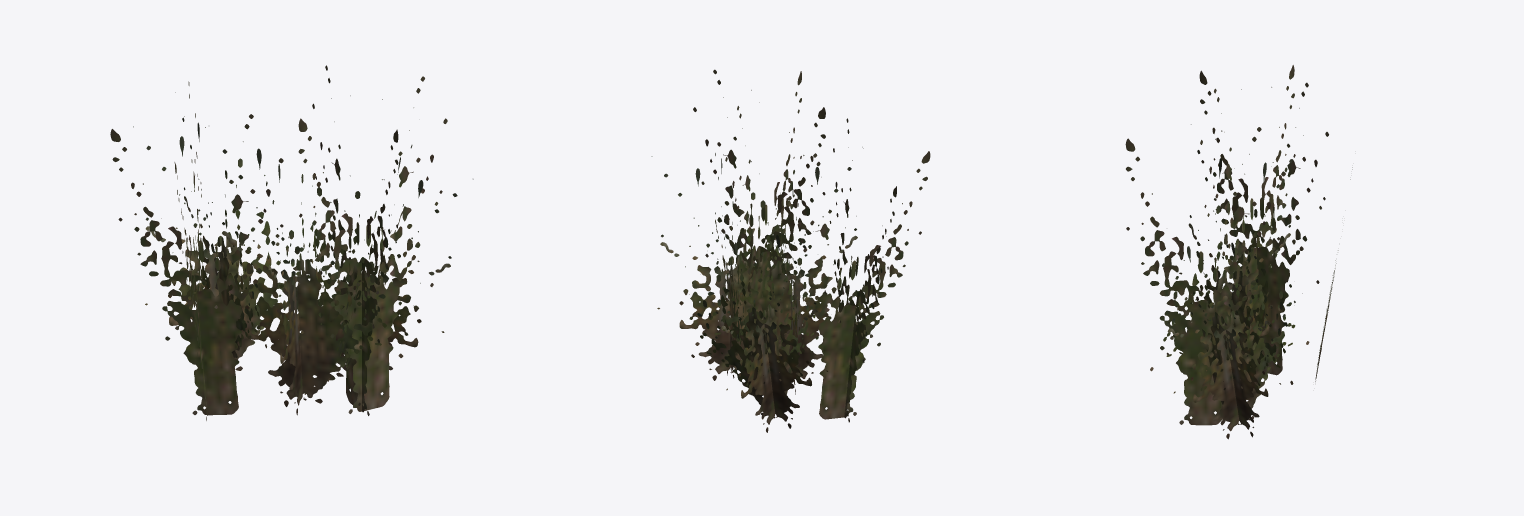
The model's file is GrassPatch01b.obj.
The picture shows the model from 3 angles, left to right: view 1: azimuth 30°, elevation 25°; view 2: azimuth 150°, elevation 25°; view 3: azimuth 270°, elevation 25°; orthographic projection. The views are drawn at different scales.
Parts seen in each view (by area): view 1: GrassPatch01b; view 2: GrassPatch01b; view 3: GrassPatch01b.
Boxes of the visible parts, left/top/right/bottom form: GrassPatch01b: left=110, top=65, right=473, bottom=420; GrassPatch01b: left=651, top=69, right=930, bottom=432; GrassPatch01b: left=1125, top=65, right=1352, bottom=439.
Size of the model in its own units: 1.43 by 1.2 by 1.52.
